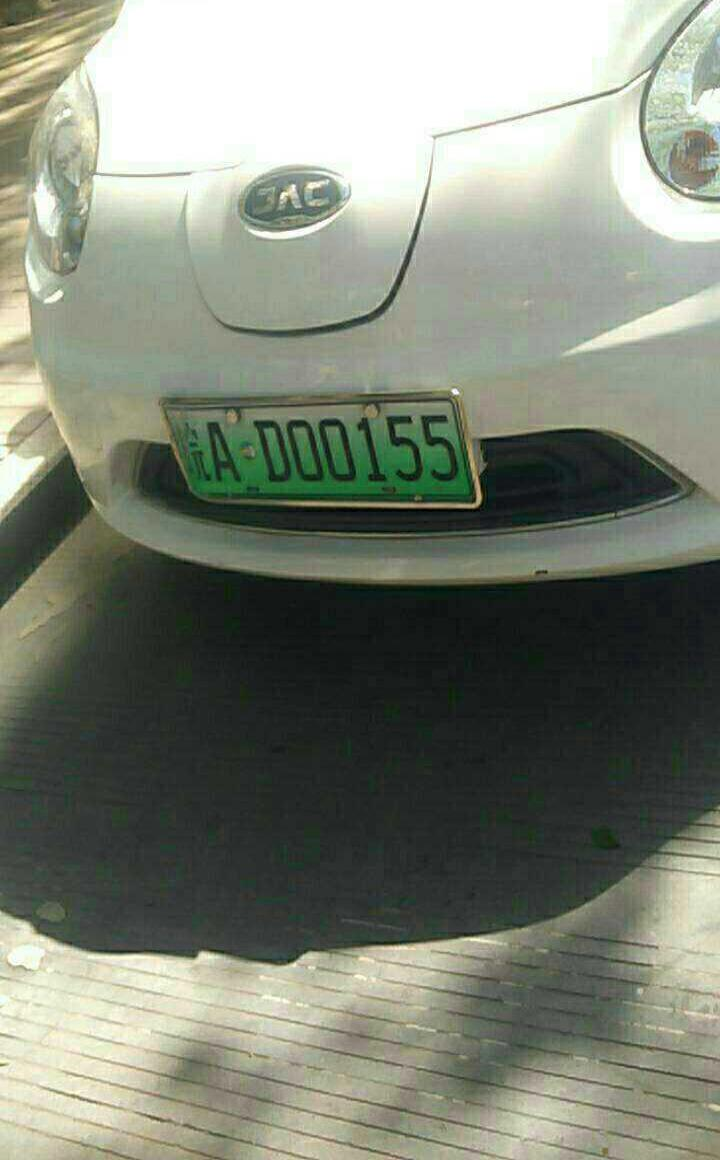car_id: (159, 398, 474, 501)
